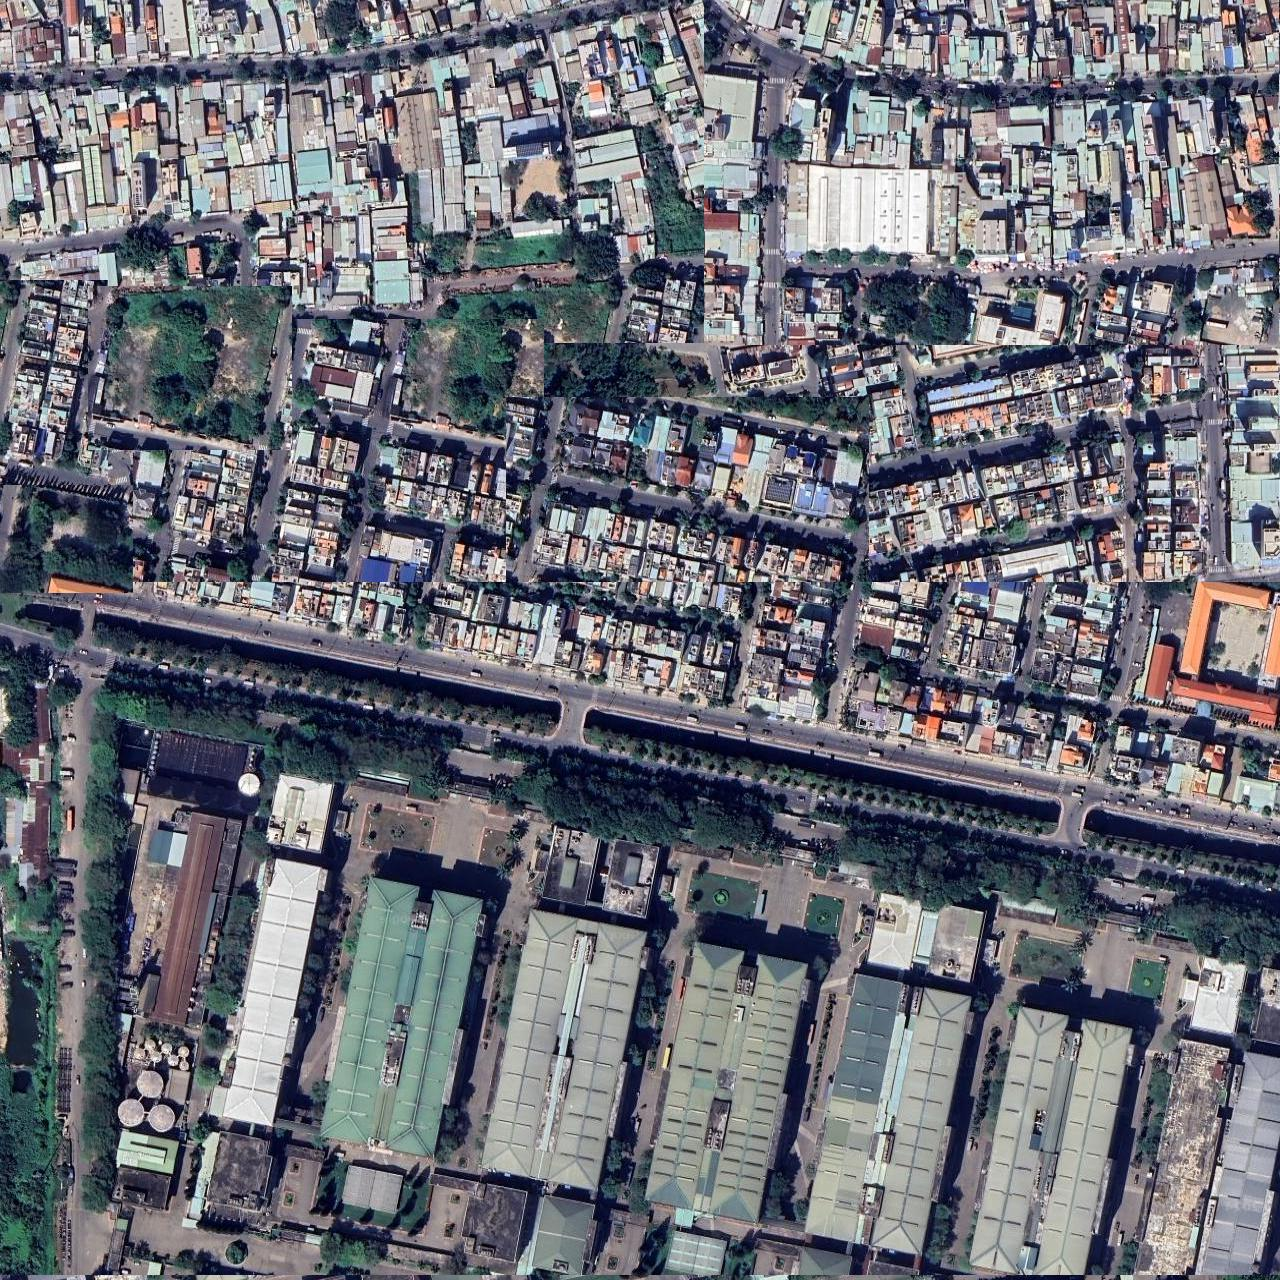greenery: (0, 583, 1280, 1275), (88, 286, 292, 450), (485, 339, 710, 429), (0, 485, 132, 593)
house: (0, 735, 1165, 1280), (0, 0, 710, 343), (704, 0, 1279, 345), (135, 319, 544, 775), (821, 279, 1213, 644), (506, 397, 869, 713), (0, 280, 108, 486)
